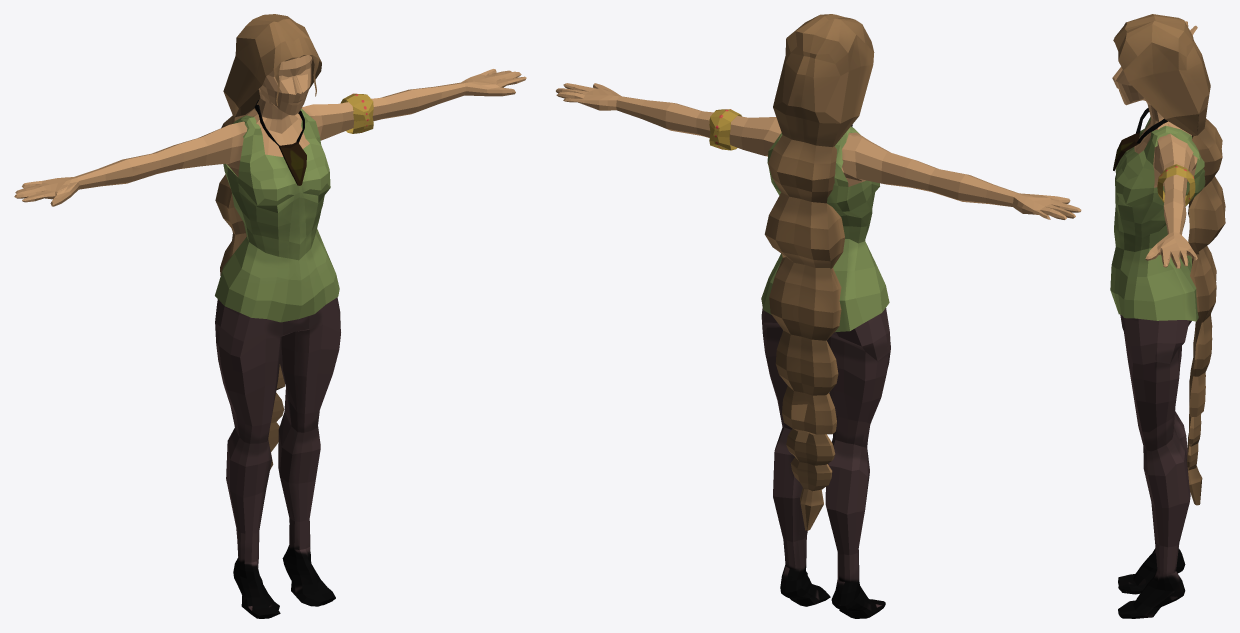
3 views of the same model, side by side, from view 1: azimuth 30°, elevation 25°; view 2: azimuth 150°, elevation 25°; view 3: azimuth 270°, elevation 25° (orthographic). The views are drawn at different scales.
Visible parts, largest first — view 1: Hose, tanktop, Body, Haare, Halsband, armband; view 2: Haare, Hose, Body, tanktop, armband; view 3: Haare, Hose, tanktop, Body, armband, Halsband.
Boxes of the visible parts, x1,y1,x2,y2 form: Hose: [215, 297, 340, 618]; tanktop: [215, 108, 339, 322]; Body: [14, 55, 526, 206]; Haare: [215, 14, 321, 469]; Halsband: [254, 100, 306, 185]; armband: [340, 93, 373, 133]; Haare: [764, 14, 874, 530]; Hose: [761, 308, 890, 618]; Body: [556, 83, 1081, 219]; tanktop: [761, 126, 889, 331]; armband: [709, 109, 741, 150]; Haare: [1113, 14, 1225, 505]; Hose: [1118, 314, 1191, 618]; tanktop: [1110, 117, 1205, 321]; Body: [1112, 21, 1197, 268]; armband: [1157, 164, 1195, 205]; Halsband: [1113, 108, 1167, 170].
Bounding box in the file's own units: 310 × 340 × 60.8.
6 materials, 6 textured.
